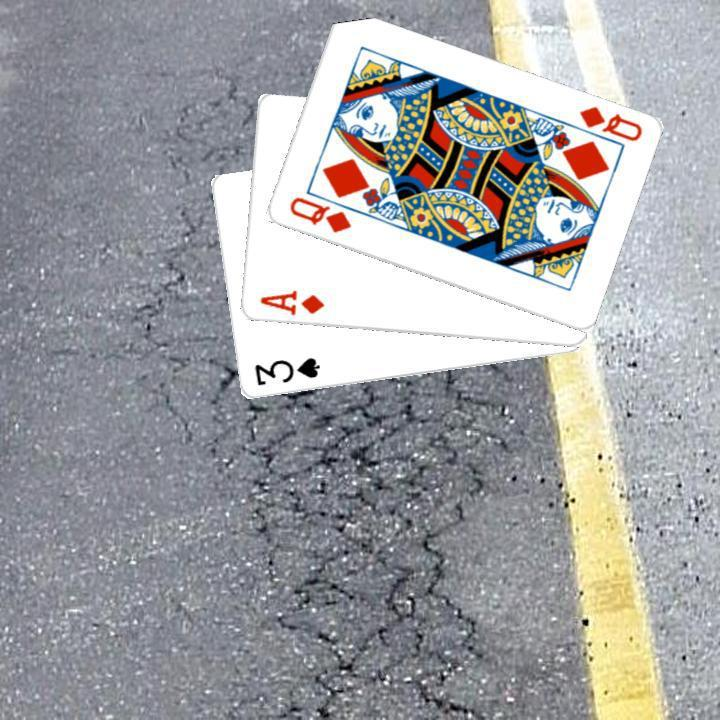3: (249, 354, 321, 389)
A: (255, 286, 326, 318)
Q: (284, 192, 353, 236), (574, 102, 644, 144)
